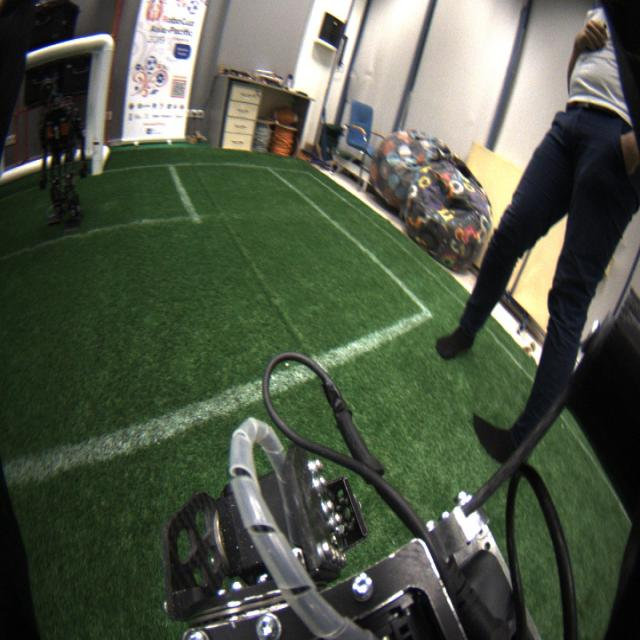goalpost: (91, 34, 116, 175)
